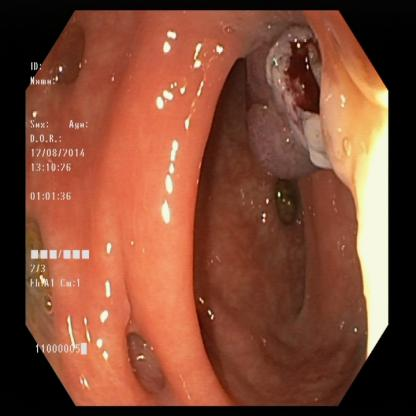Labels: (26, 50, 98, 367)
Polyps: (268, 23, 342, 180)
